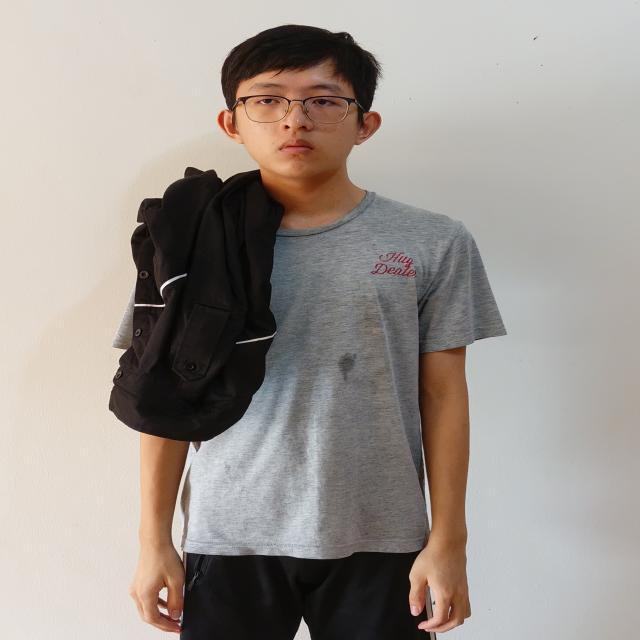person_without_labcoat: (111, 25, 505, 640)
